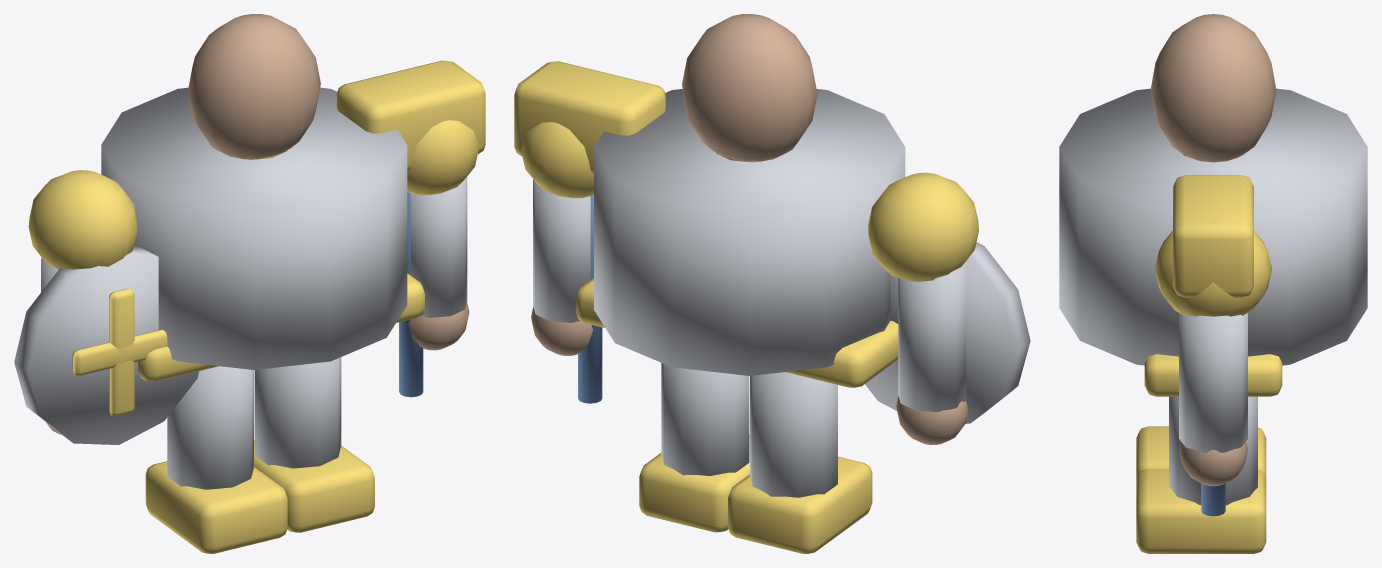
Rendered from Paladin_Placeholder.glb.
The picture shows the model from 3 angles, left to right: view 1: azimuth 30°, elevation 25°; view 2: azimuth 150°, elevation 25°; view 3: azimuth 270°, elevation 25°; orthographic projection.
Parts seen in each view (by area): view 1: Paladin_Placeholder_Export; view 2: Paladin_Placeholder_Export; view 3: Paladin_Placeholder_Export.
Boxes of the visible parts, x1=… form: Paladin_Placeholder_Export: x1=14, y1=14, x2=485, y2=553; Paladin_Placeholder_Export: x1=514, y1=14, x2=1030, y2=553; Paladin_Placeholder_Export: x1=1059, y1=14, x2=1367, y2=553.
Size of the model in its own units: 161 by 162 by 91.2.
